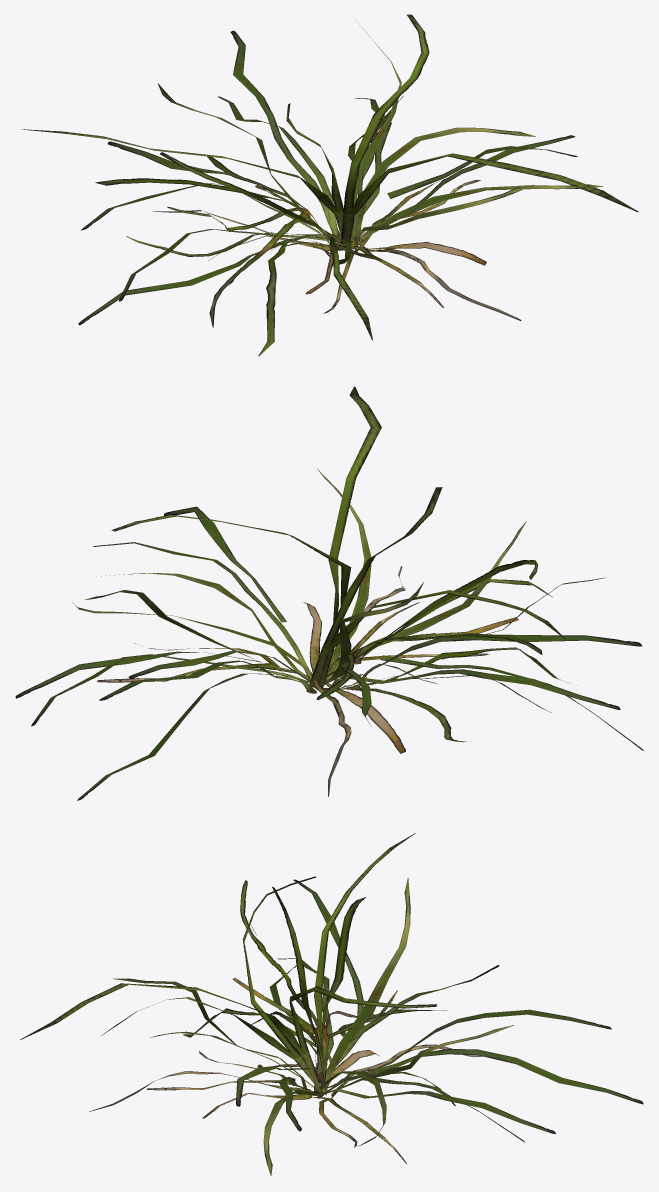
The model's file is low_sward.gltf.
The picture shows the model from 3 angles, top to bottom: view 1: azimuth 30°, elevation 25°; view 2: azimuth 150°, elevation 25°; view 3: azimuth 270°, elevation 25°; orthographic projection. The views are drawn at different scales.
Size of the model in its own units: 0.5974 by 0.2198 by 0.6836.
1 material, 1 textured.
